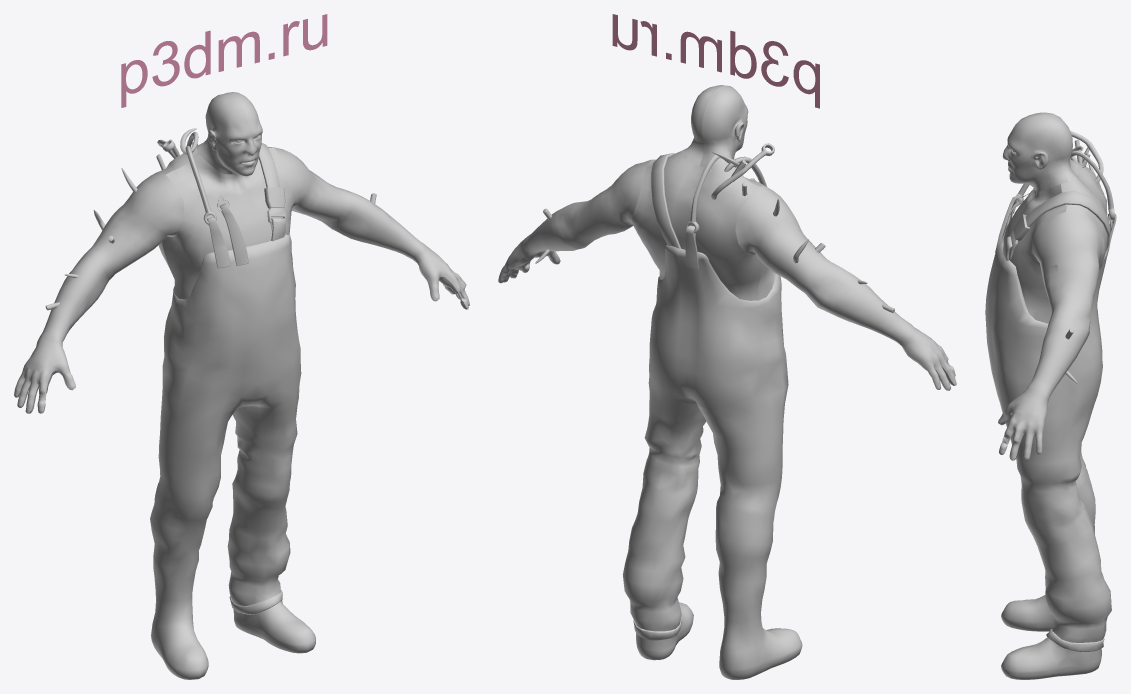
Rendered from theTrapper.obj.
3 views of the same model, side by side, from view 1: azimuth 30°, elevation 25°; view 2: azimuth 150°, elevation 25°; view 3: azimuth 270°, elevation 25° (orthographic). The views are drawn at different scales.
Visible parts, largest first — view 1: SlasherMale_REF, Object002, Object001, Text001; view 2: SlasherMale_REF, Object002, Object001, Text001; view 3: SlasherMale_REF, Object002, Object001.
Part boxes in pixels (bbox=[...]): SlasherMale_REF: bbox=[150, 234, 315, 679]; Object002: bbox=[14, 128, 469, 413]; Object001: bbox=[196, 92, 262, 176]; Text001: bbox=[121, 14, 327, 107]; SlasherMale_REF: bbox=[623, 245, 802, 679]; Object002: bbox=[498, 143, 956, 390]; Object001: bbox=[681, 85, 748, 166]; Text001: bbox=[612, 14, 819, 108]; SlasherMale_REF: bbox=[985, 233, 1111, 679]; Object002: bbox=[995, 130, 1116, 460]; Object001: bbox=[1002, 112, 1078, 191].
Size of the model in its own units: 174 by 232 by 46.23.
